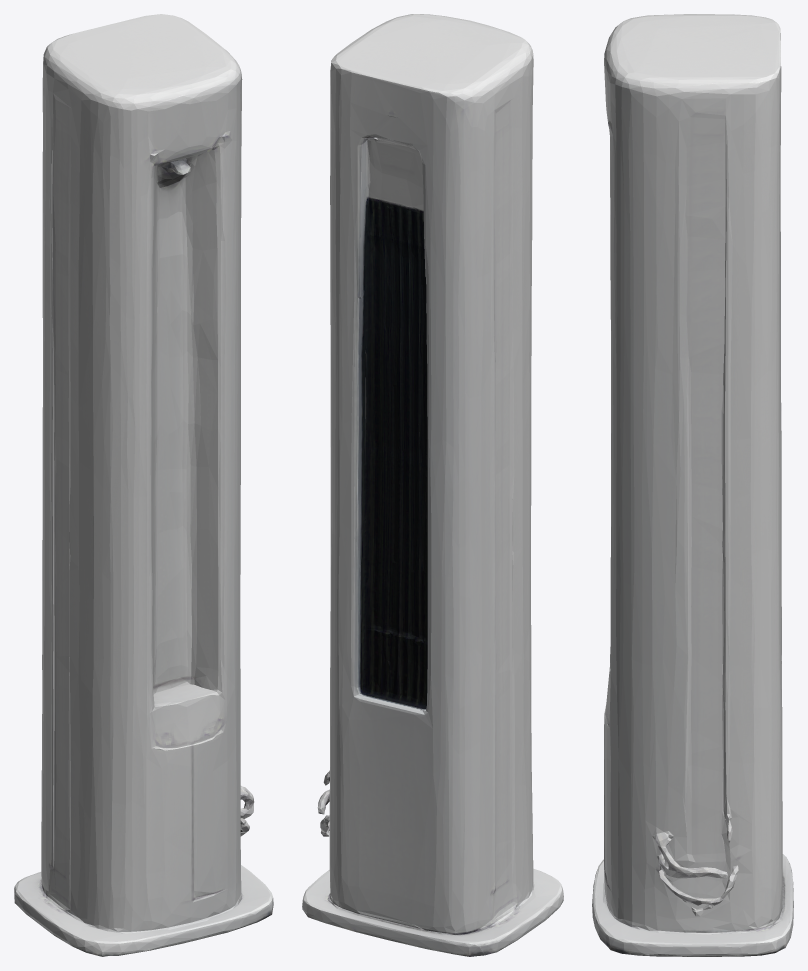
The picture shows the model from 3 angles, left to right: view 1: azimuth 30°, elevation 25°; view 2: azimuth 150°, elevation 25°; view 3: azimuth 270°, elevation 25°; orthographic projection.
Parts seen in each view (by area): view 1: world; view 2: world; view 3: world.
Part boxes in pixels (x1,y1,x2,y2): world: (14, 14, 273, 956); world: (302, 14, 563, 956); world: (592, 14, 793, 956).
Size of the model in its own units: 0.2545 by 0.9997 by 0.2115.
Materials: 1 (1 with a texture image).
